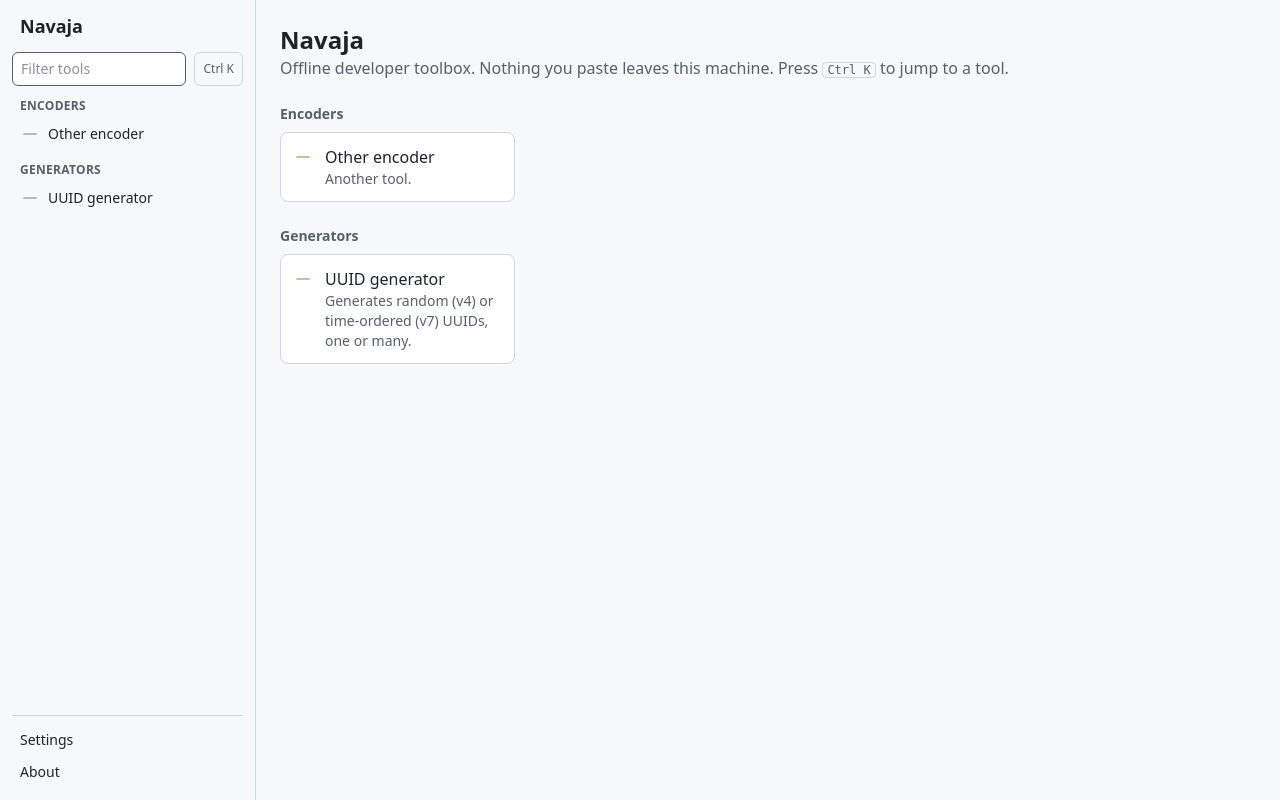
Test case: shell › filters the sidebar through Rust search
Type "uid" into the search field labelled "Filter tools". click: (99, 69)
box: [12, 52, 186, 86]
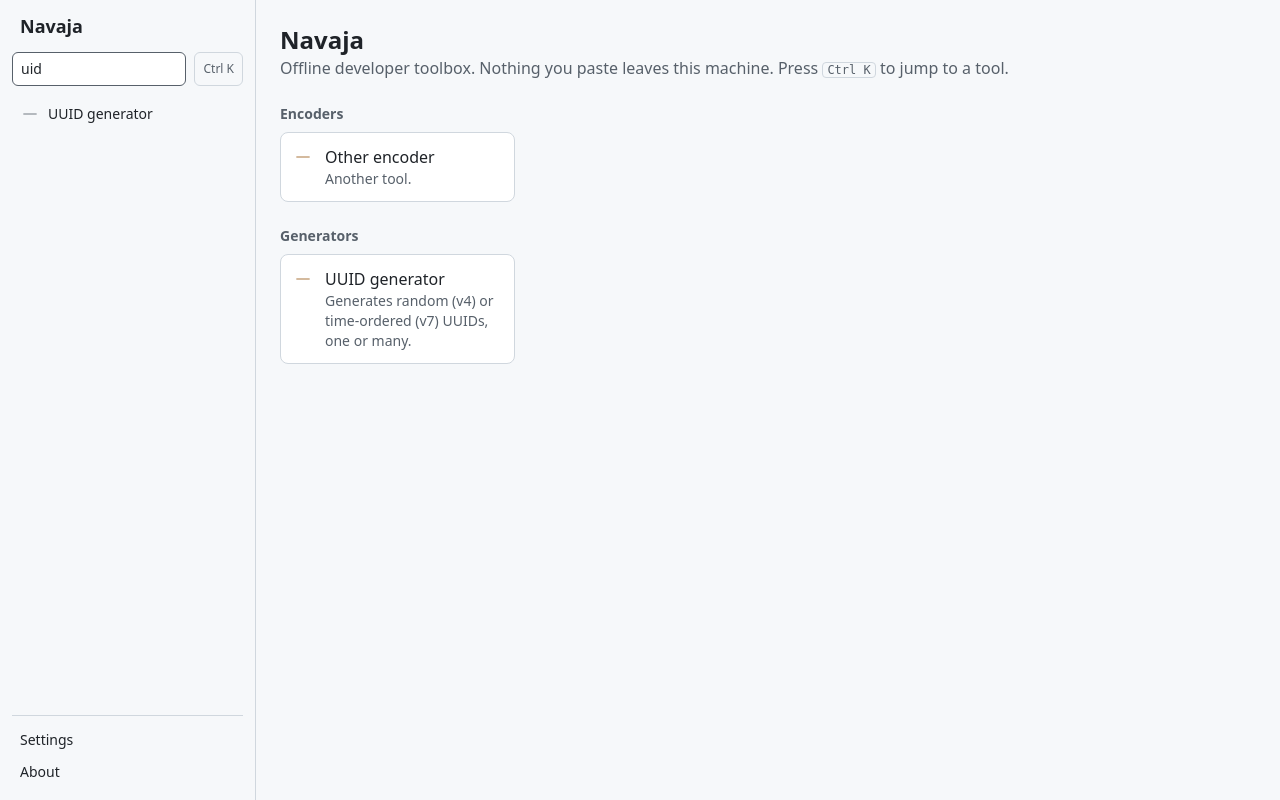
Result: the links read "UUID generator", in this order at [20, 104, 153, 124]
